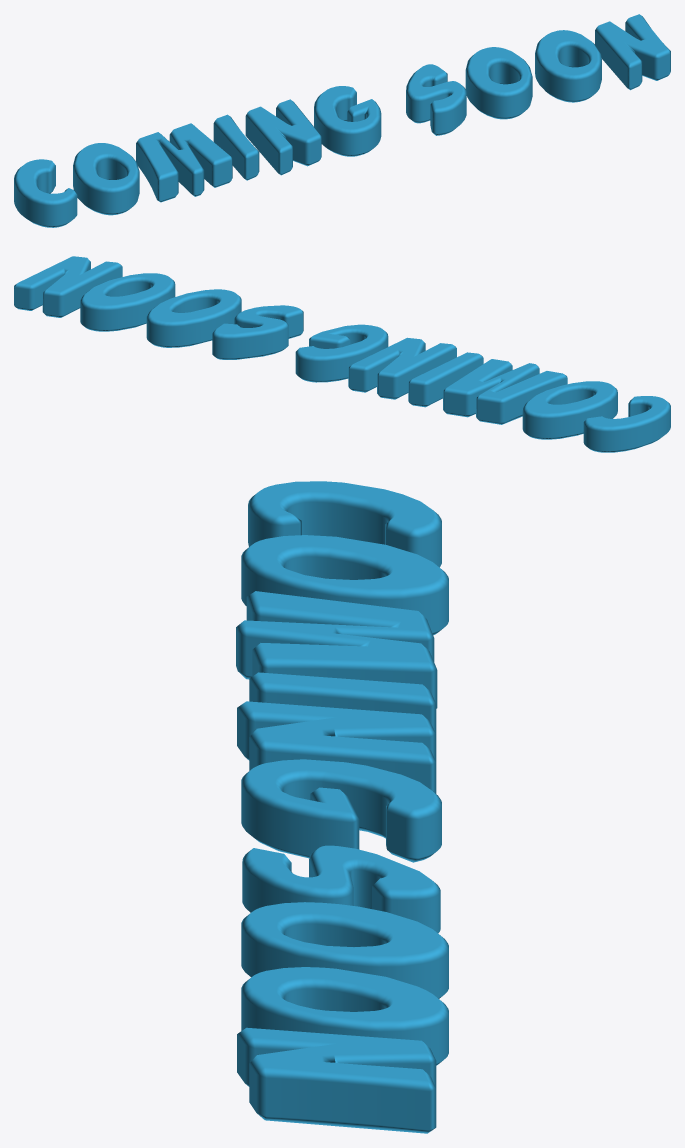
Rendered from Coming Soon.fbx.
3 views of the same model, one above another, from view 1: azimuth 30°, elevation 25°; view 2: azimuth 150°, elevation 25°; view 3: azimuth 270°, elevation 25° (orthographic). The views are drawn at different scales.
Parts seen in each view (by area): view 1: Text.019; view 2: Text.019; view 3: Text.019.
Boxes of the visible parts, box(x1,y1,x2,y2) form: Text.019: box(14, 14, 670, 227); Text.019: box(14, 256, 670, 452); Text.019: box(236, 481, 448, 1133).
Bounding box in the file's own units: 440 × 18 × 65.25.
